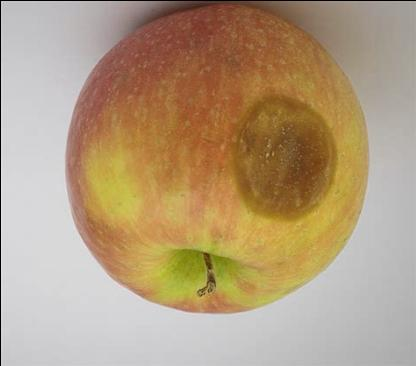defect: (208, 80, 348, 231)
